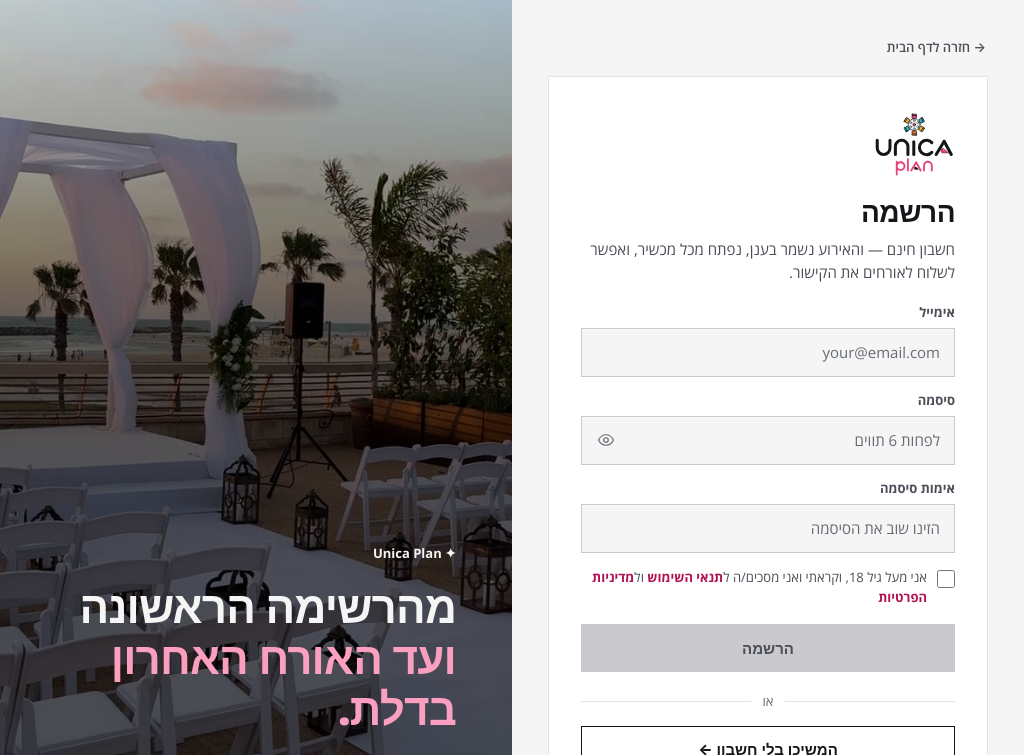
Test: SignupScreen errors (37b) › {"name":"AuthApiError","code":"weak_password","status":422} → Hebrew
Type "a@b.co" into the field labelled "אימייל" at [768, 352], box [581,328,955,377]
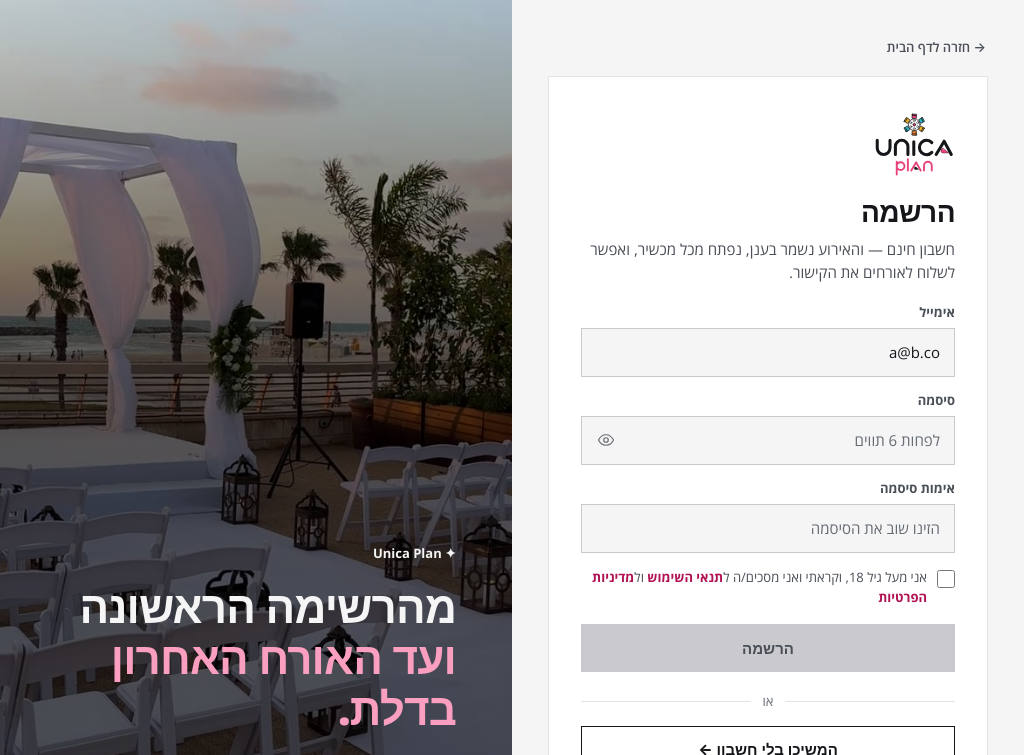
Type "secret1" into the password field labelled "סיסמה" at [768, 440], box [581,416,955,465]
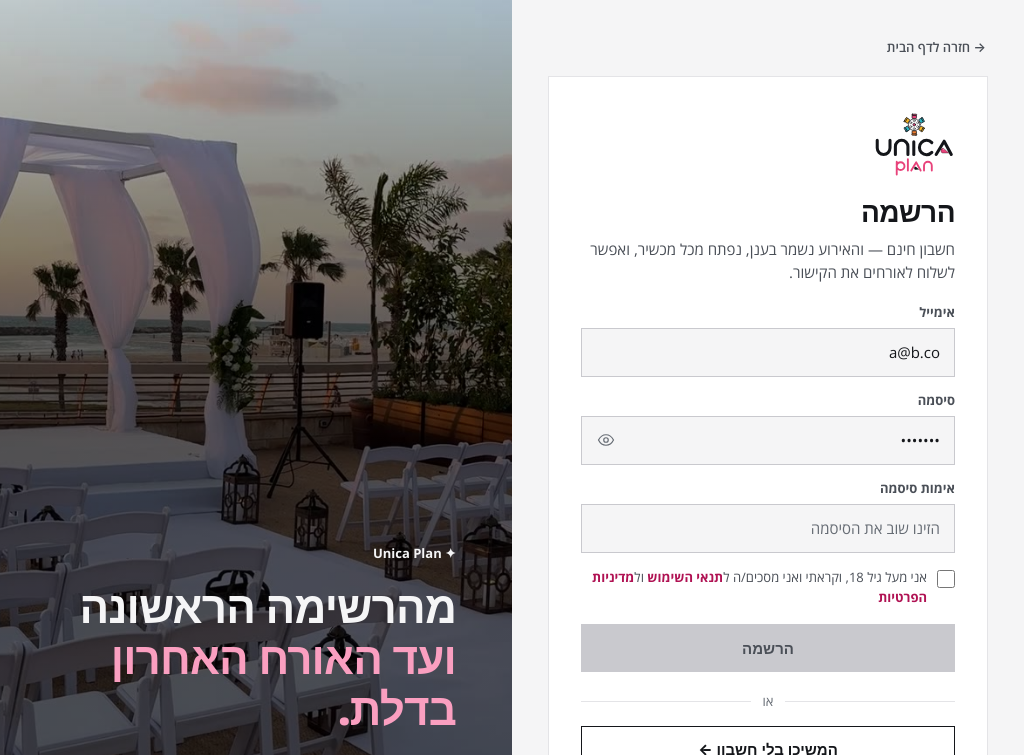
Type "secret1" into the password field labelled "אימות סיסמה" at [768, 528], box [581,504,955,553]
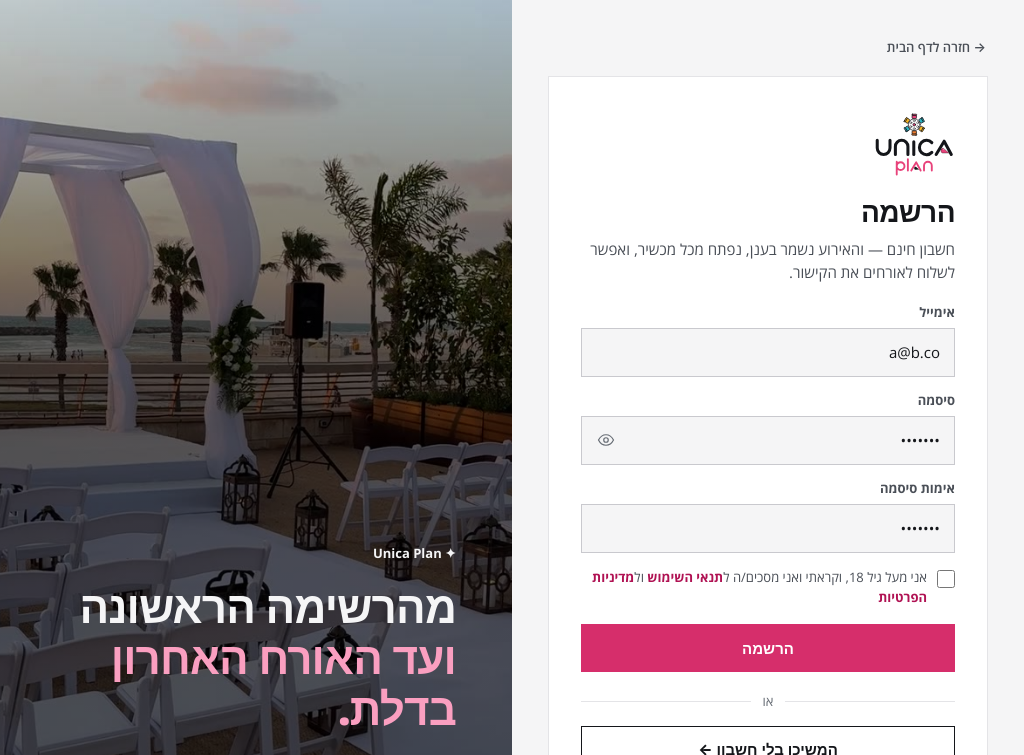
Click the checkbox at [946, 579], box [937,570,955,588]
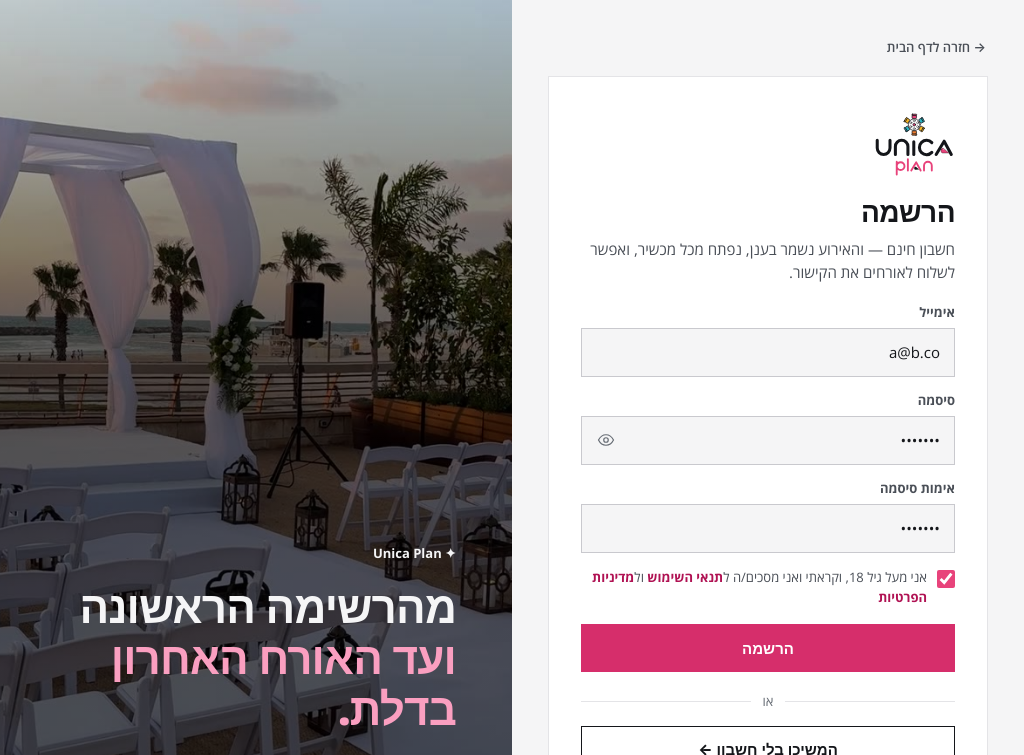
Submit the form labelled "אימייל", box [581,303,955,672]
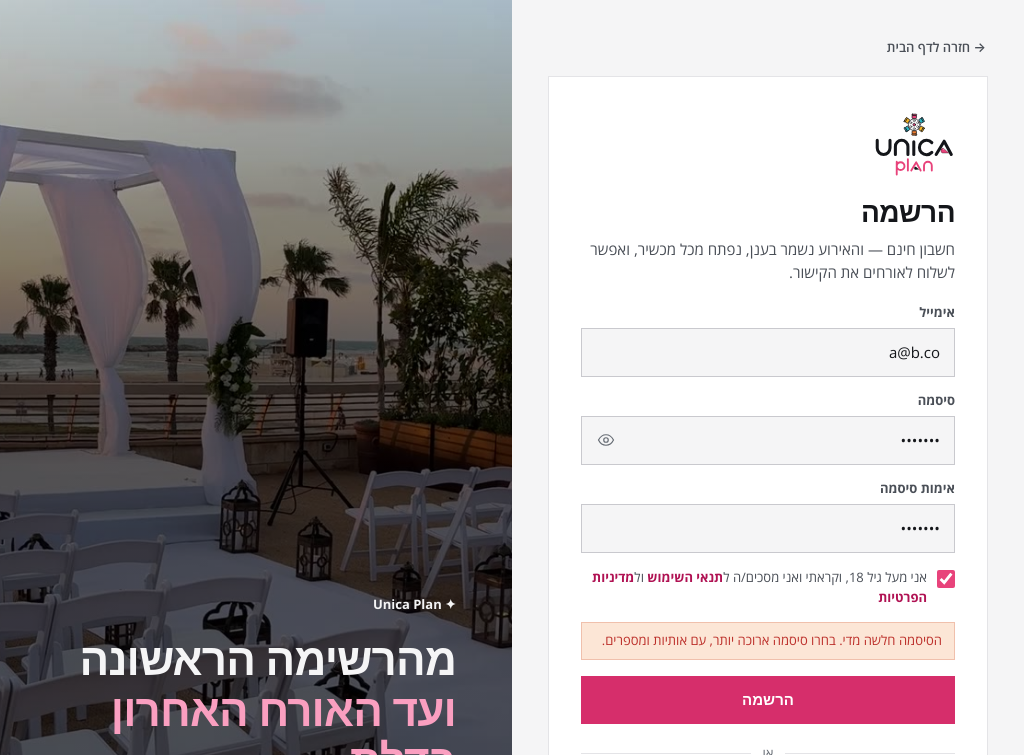
Now the message "הסיסמה חלשה מדי. בחרו סיסמה ארוכה יותר, עם אותיות ומספרים." is shown, box [581,622,955,660]
